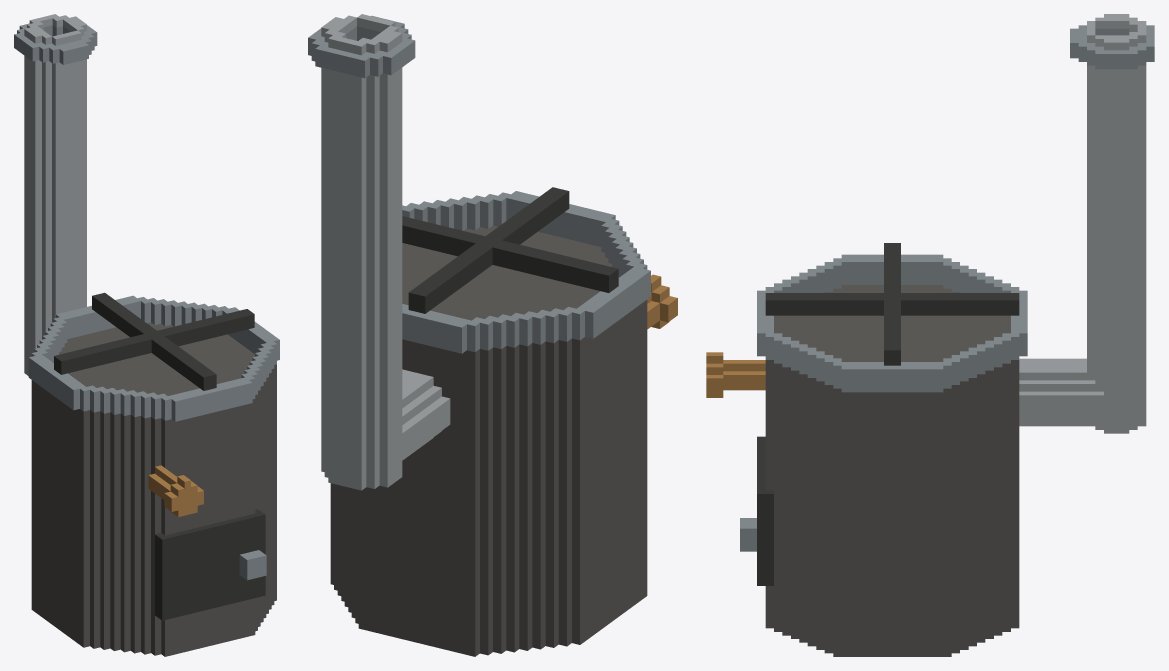
Rendered from charcoal_cooker.glb.
The picture shows the model from 3 angles, left to right: view 1: azimuth 30°, elevation 25°; view 2: azimuth 150°, elevation 25°; view 3: azimuth 270°, elevation 25°; orthographic projection. The views are drawn at different scales.
Visible parts, largest first — view 1: charcoal_cooker:compound; view 2: charcoal_cooker:compound; view 3: charcoal_cooker:compound.
Part boxes in pixels (<box>): charcoal_cooker:compound: <box>14,14,279,656</box>; charcoal_cooker:compound: <box>308,14,677,656</box>; charcoal_cooker:compound: <box>706,14,1154,656</box>.
Bounding box in the file's own units: 0.128 × 0.3 × 0.212.
